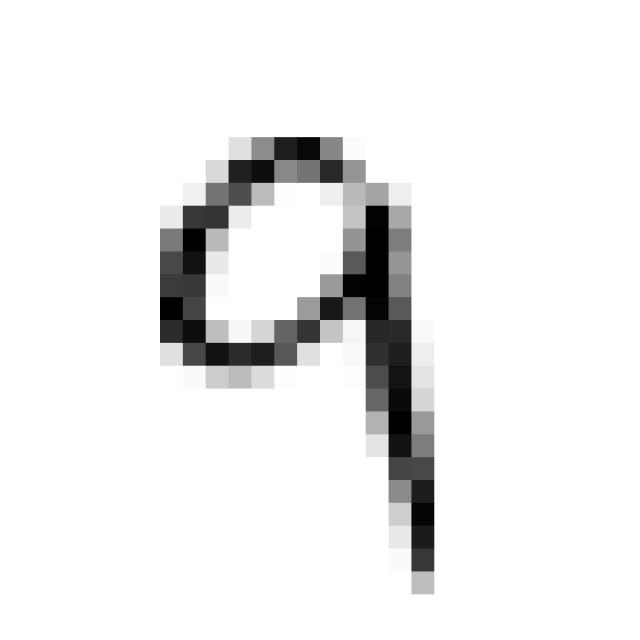9 -nine-: (137, 114, 453, 602)
